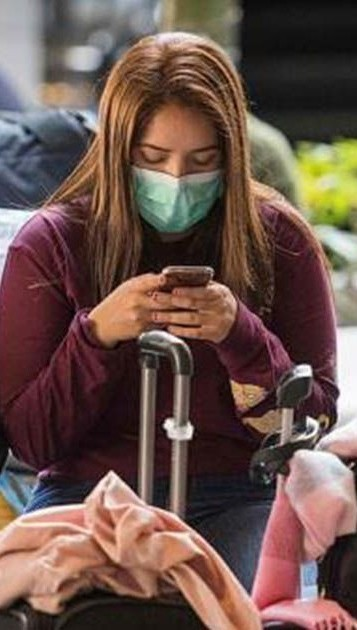with_mask: (103, 90, 238, 233)
